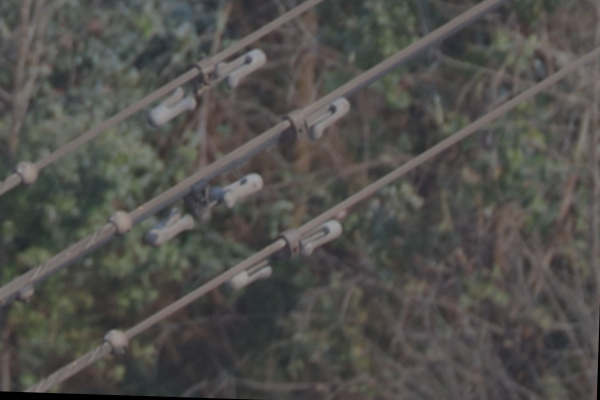damper: (134, 168, 266, 251), (141, 45, 268, 128), (224, 216, 344, 292)
damper_defect: (277, 95, 351, 152)
